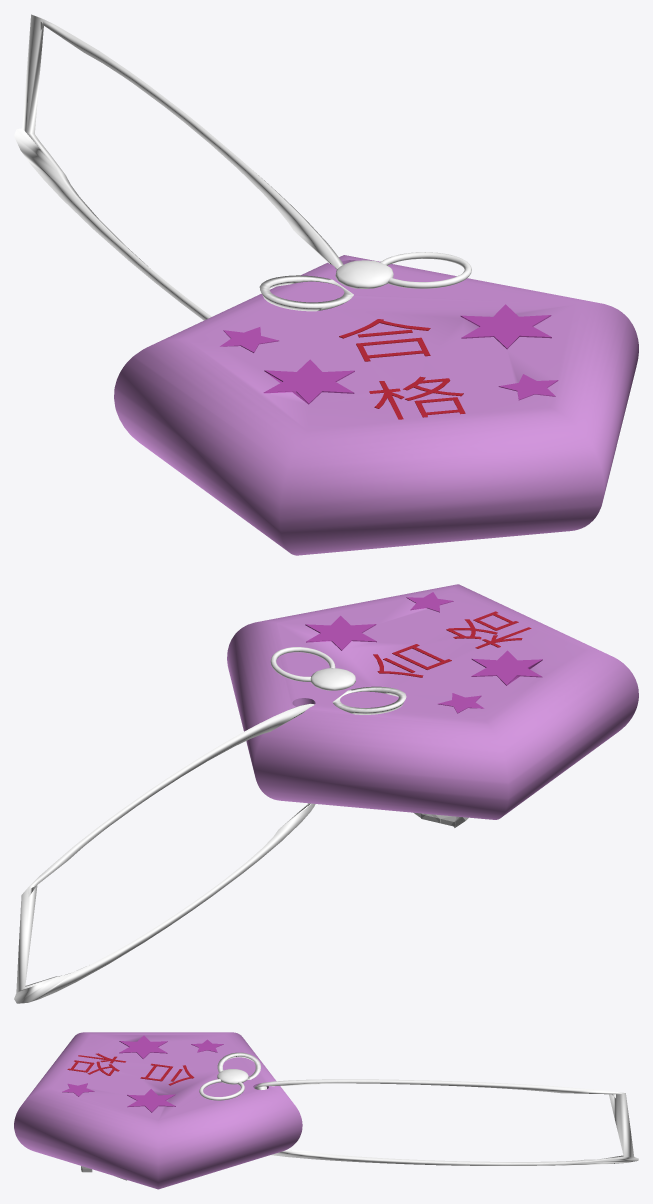
3 renders of one model, top to bottom at view 1: azimuth 30°, elevation 25°; view 2: azimuth 150°, elevation 25°; view 3: azimuth 270°, elevation 25°, orthographic. The views are drawn at different scales.
Visible parts, largest first — view 1: ChamferCyl001, Torus Knot003, Sphere001, Torus Knot002; view 2: ChamferCyl001, Torus Knot003, Sphere001, Torus Knot002; view 3: ChamferCyl001, Torus Knot003, Sphere001, Torus Knot002.
Boxes of the visible parts, box(x1,y1,x2,y2) form: ChamferCyl001: box(114, 255, 638, 555); Torus Knot003: box(14, 14, 343, 320); Sphere001: box(335, 260, 393, 288); Torus Knot002: box(380, 252, 471, 288); ChamferCyl001: box(227, 584, 638, 819); Torus Knot003: box(14, 703, 315, 1003); Sphere001: box(310, 668, 355, 690); Torus Knot002: box(270, 647, 335, 681); ChamferCyl001: box(14, 1032, 302, 1189); Torus Knot003: box(254, 1079, 638, 1165); Sphere001: box(217, 1069, 248, 1084); Torus Knot002: box(199, 1079, 244, 1100).
Size of the model in its own units: 0.9007 by 0.3305 by 2.05.
6 materials, 1 textured.
